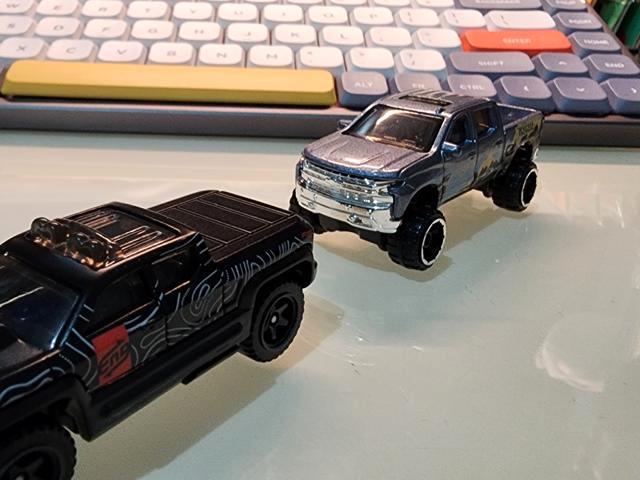toy-car: (0, 188, 318, 480), (288, 87, 544, 271)
